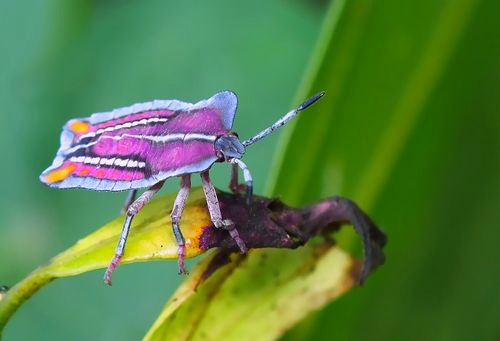Stink_Bug: (62, 111, 260, 209)
